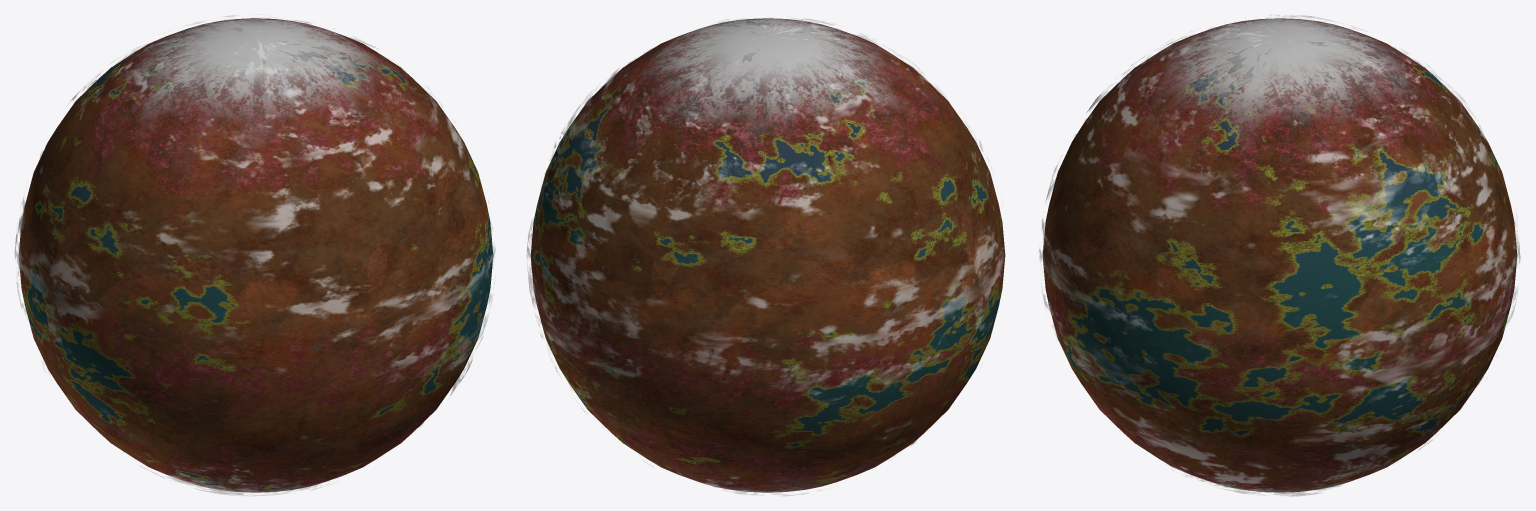
3 renders of one model, left to right at view 1: azimuth 30°, elevation 25°; view 2: azimuth 150°, elevation 25°; view 3: azimuth 270°, elevation 25°, orthographic.
Visible parts, largest first — view 1: Object_1; view 2: Object_1; view 3: Object_1.
Boxes of the visible parts, x1,y1,x2,y2 form: Object_1: [14, 14, 495, 496]; Object_1: [526, 17, 1005, 496]; Object_1: [1039, 14, 1520, 496].
Size of the model in its own units: 2.04 by 2.04 by 2.04.
Materials: 2 (2 with a texture image).
